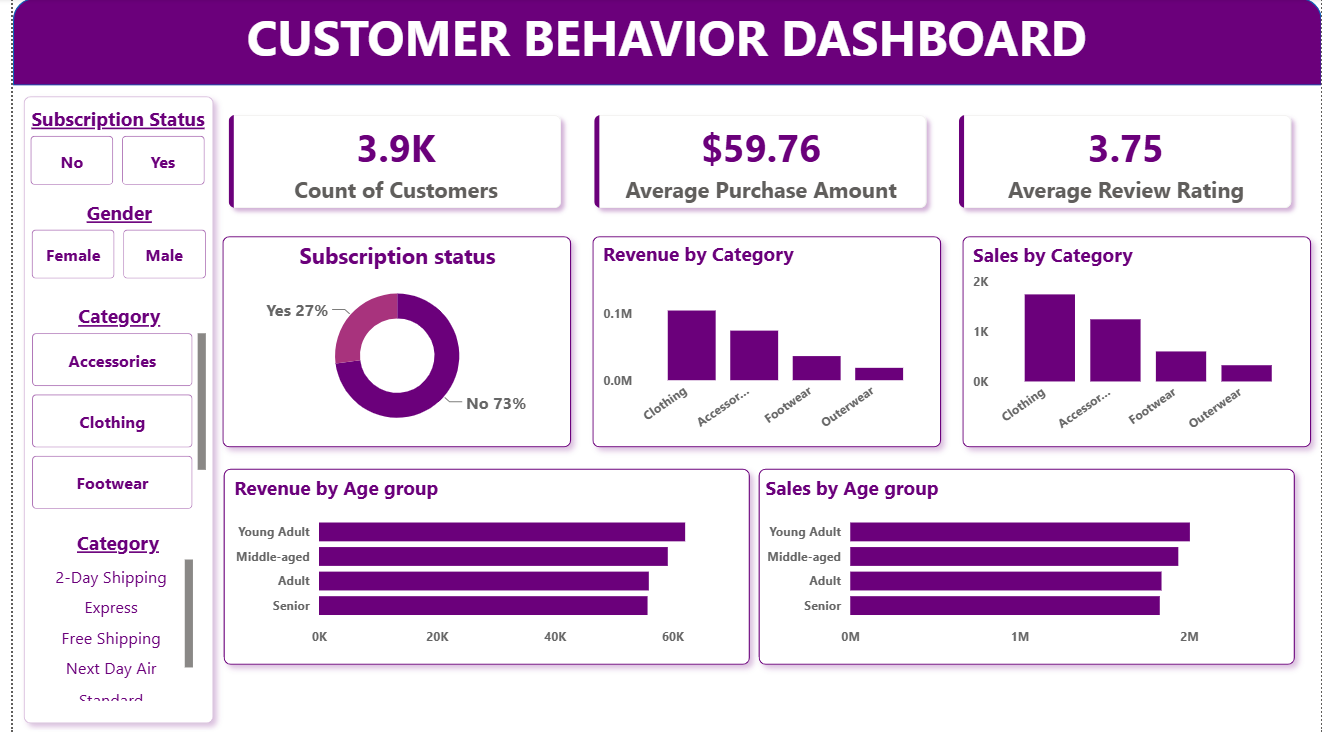

The page's visual inventory and layout, read from the dashboard file:
{"tool":"powerbi","page":{"name":"Page 1","canvas":[1280,720],"ordinal":0},"visuals":[{"type":"cardVisual","fields":{"Data":["customer_behavior customer_shopping_behavior.count of customers","customer_behavior customer_shopping_behavior.average purchase amount","customer_behavior customer_shopping_behavior.average review rating"]},"box":[182.2,85.6,1098.1,149.2],"z":0},{"type":"shape","box":[0,0,1280.3,85.6],"z":1000},{"type":"textbox","box":[220.1,0,838.9,85.6],"z":2000},{"type":"shape","box":[918.3,222.6,362,227.4],"z":3000},{"type":"shape","box":[194.4,222.6,362,227.4],"z":4000},{"type":"shape","box":[556.4,222.6,362,227.4],"z":5000},{"type":"donutChart","title":"Subscription status","fields":{"Category":["customer_behavior customer_shopping_behavior.subscription_status"],"Y":["customer_behavior customer_shopping_behavior.count of customers"]},"box":[217.7,237.2,316.7,196.9],"z":6000},{"type":"columnChart","title":"Revenue by Category","fields":{"Y":["Sum(customer_behavior customer_shopping_behavior.purchase_amount)"],"Category":["customer_behavior customer_shopping_behavior.category"]},"box":[572.3,237.2,330.2,196.9],"z":7000},{"type":"columnChart","title":"Sales by Category","fields":{"Y":["customer_behavior customer_shopping_behavior.count of customers"],"Category":["customer_behavior customer_shopping_behavior.category"]},"box":[934.2,238.5,330.2,196.9],"z":8000},{"type":"shape","box":[0,85.6,206.7,634.7],"z":9000},{"type":"advancedSlicerVisual","title":"Subscription Status","fields":{"Values":["customer_behavior customer_shopping_behavior.subscription_status"]},"box":[12.2,105.2,181,83.2],"z":10000},{"type":"advancedSlicerVisual","title":"Gender","fields":{"Values":["customer_behavior customer_shopping_behavior.gender"]},"box":[13.5,196.9,181,83.2],"z":11000},{"type":"advancedSlicerVisual","title":"Category","fields":{"Values":["customer_behavior customer_shopping_behavior.category"]},"box":[13.5,298.4,181,209.1],"z":12000},{"type":"listSlicer","title":"Category","fields":{"Values":["customer_behavior customer_shopping_behavior.shipping_type"]},"box":[23.2,519.7,159,173.6],"z":13000},{"type":"shape","box":[195.7,450,535.6,212.8],"z":14000},{"type":"clusteredBarChart","title":"Revenue by Age group","fields":{"Category":["customer_behavior customer_shopping_behavior.age_group"],"Y":["Sum(customer_behavior customer_shopping_behavior.purchase_amount)"]},"box":[211.6,465.9,507.5,177.3],"z":15000},{"type":"shape","box":[719,450,545.4,212.8],"z":16000},{"type":"clusteredBarChart","title":"Sales by Age group","fields":{"Category":["customer_behavior customer_shopping_behavior.age_group"],"Y":["Sum(customer_behavior customer_shopping_behavior.customer_id)"]},"box":[731.3,465.9,517.3,177.3],"z":17000}]}

Visuals, with their boxes in screenshot pixels (x1, y1, x2, y2), scaled from the page's 1280x720 canvas onto the 1322x732 screenshot:
cardVisual - customer_behavior customer_shopping_behavior.count of customers x customer_behavior customer_shopping_behavior.average purchase amount: [left=188, top=87, right=1321, bottom=239]
shape: [left=0, top=0, right=1321, bottom=87]
textbox: [left=227, top=0, right=1094, bottom=87]
shape: [left=948, top=226, right=1321, bottom=458]
shape: [left=201, top=226, right=575, bottom=458]
shape: [left=575, top=226, right=949, bottom=458]
"Subscription status" donutChart: [left=225, top=241, right=552, bottom=441]
"Revenue by Category" columnChart: [left=591, top=241, right=932, bottom=441]
"Sales by Category" columnChart: [left=965, top=242, right=1306, bottom=443]
shape: [left=0, top=87, right=213, bottom=731]
"Subscription Status" advancedSlicerVisual: [left=13, top=107, right=200, bottom=192]
"Gender" advancedSlicerVisual: [left=14, top=200, right=201, bottom=285]
"Category" advancedSlicerVisual: [left=14, top=303, right=201, bottom=516]
"Category" listSlicer: [left=24, top=528, right=188, bottom=705]
shape: [left=202, top=458, right=755, bottom=674]
"Revenue by Age group" clusteredBarChart: [left=219, top=474, right=743, bottom=654]
shape: [left=743, top=458, right=1306, bottom=674]
"Sales by Age group" clusteredBarChart: [left=755, top=474, right=1290, bottom=654]
